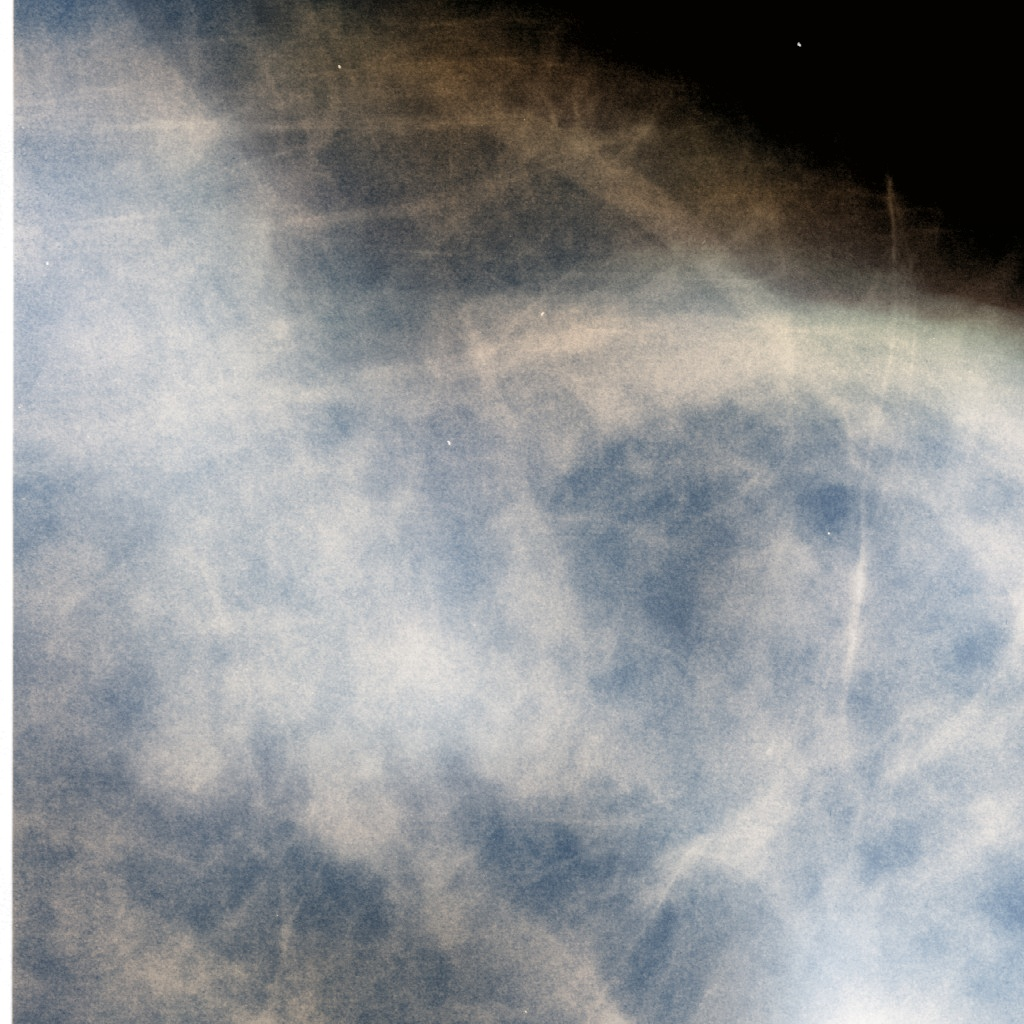tumor: (55, 159, 511, 865)
